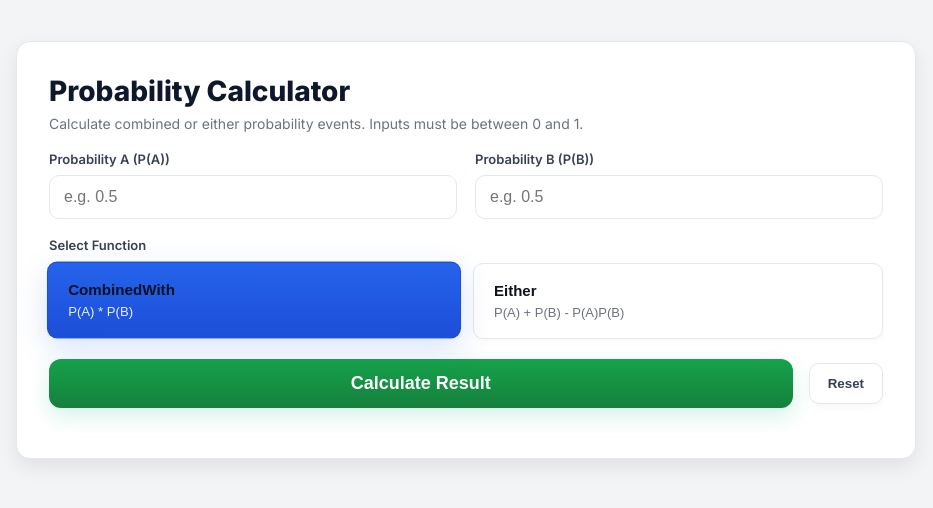
Test: shows validation error when inputs are empty
Click the button "Calculate Result" at (421, 384), box x1=49 y1=359 x2=793 y2=408
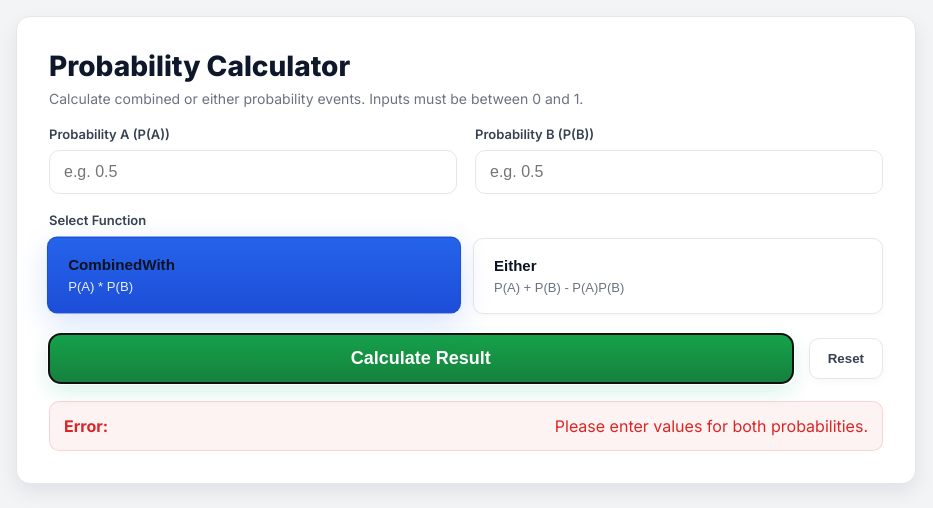
Now the text "Please enter values for both probabilities." is shown, box x1=555 y1=416 x2=868 y2=436
